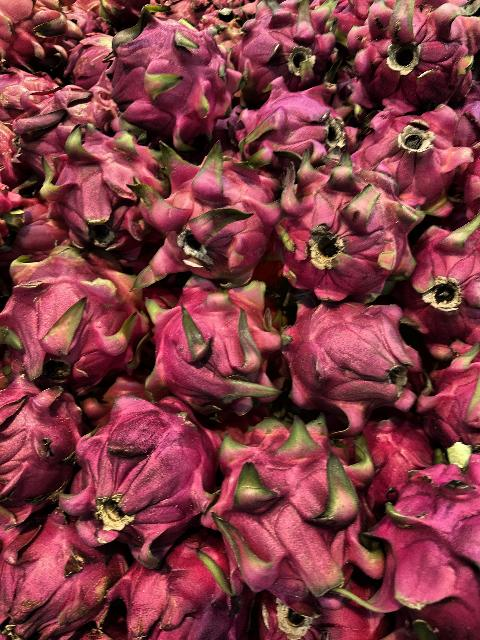buah-naga-belum-matang: (274, 158, 418, 300), (3, 245, 146, 387)
buah-naga-matang: (206, 411, 372, 595), (75, 397, 209, 566), (136, 276, 287, 424), (98, 10, 236, 154), (378, 446, 480, 640), (136, 147, 278, 277), (283, 303, 429, 425), (0, 524, 128, 640), (346, 96, 468, 214), (38, 126, 160, 244), (342, 2, 474, 108), (114, 540, 242, 640), (0, 387, 78, 523), (218, 5, 336, 91), (402, 220, 480, 348), (234, 87, 354, 165), (420, 356, 480, 448)
